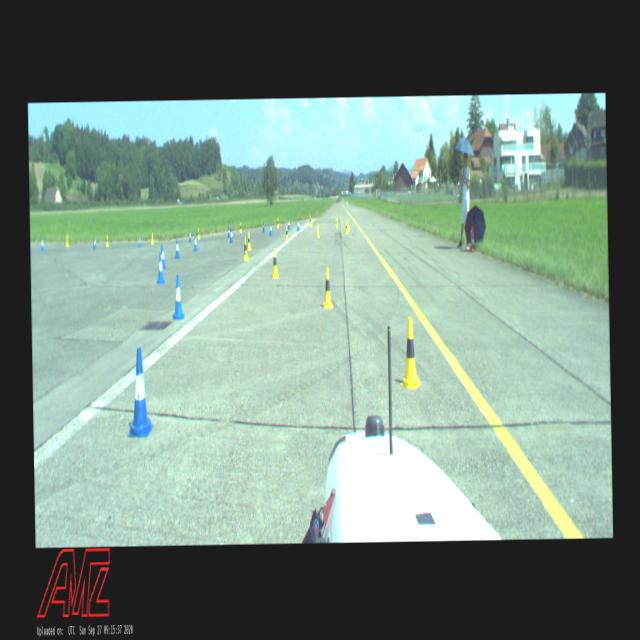blue_cone: (126, 347, 153, 436), (172, 274, 184, 318), (156, 254, 164, 284), (161, 245, 165, 268), (174, 239, 178, 257), (193, 233, 197, 250), (92, 236, 96, 249), (296, 219, 300, 231), (269, 222, 272, 235), (40, 237, 43, 250), (262, 220, 265, 232), (188, 230, 191, 242), (227, 226, 230, 237), (230, 228, 232, 242), (138, 234, 140, 246), (288, 218, 290, 229)
yellow_cone: (398, 317, 421, 389), (322, 267, 332, 308), (271, 249, 279, 278), (242, 238, 248, 260), (247, 232, 251, 250), (284, 226, 288, 240), (344, 222, 348, 234), (150, 232, 154, 244), (316, 222, 319, 236), (276, 216, 279, 228), (335, 216, 338, 228), (105, 234, 108, 246), (197, 228, 200, 239), (309, 214, 311, 226), (348, 218, 350, 230), (66, 235, 68, 246), (240, 222, 242, 232)
